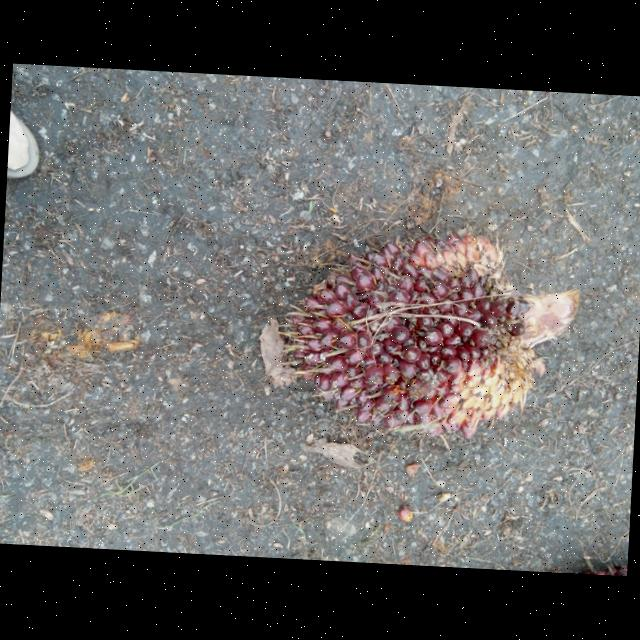Ripe: (279, 222, 551, 447)
